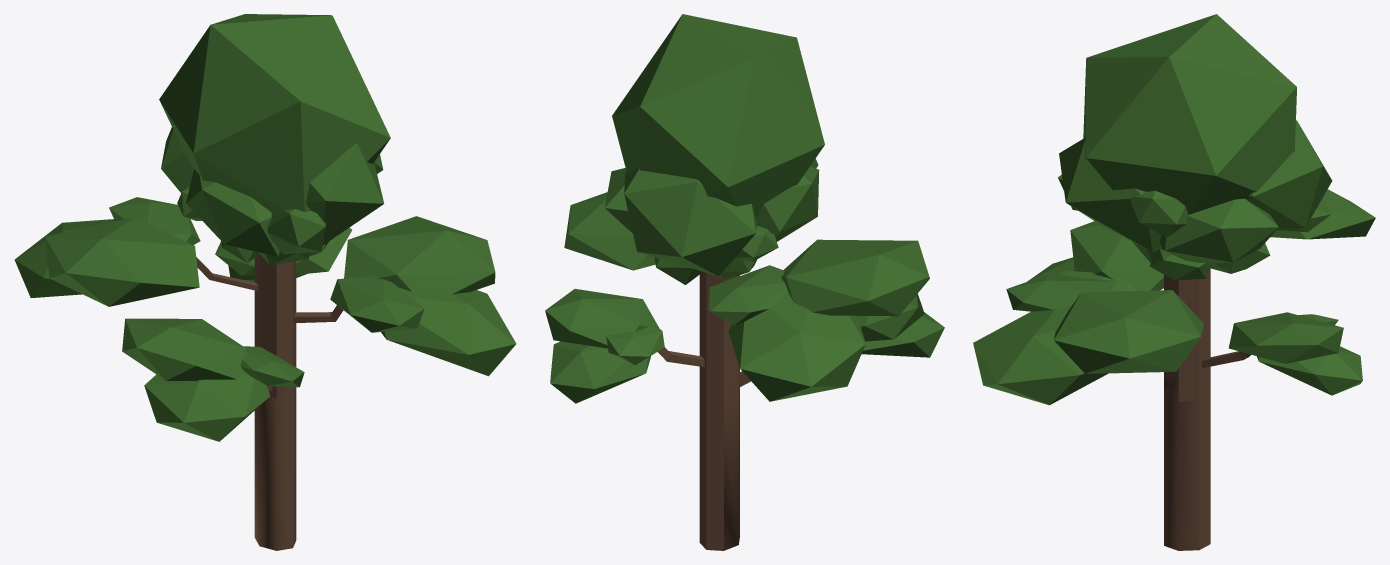
File: Tilleuil_02.fbx
3 renders of one model, left to right at view 1: azimuth 30°, elevation 25°; view 2: azimuth 150°, elevation 25°; view 3: azimuth 270°, elevation 25°, orthographic. The views are drawn at different scales.
Parts seen in each view (by area): view 1: Tilleuil_02; view 2: Tilleuil_02; view 3: Tilleuil_02.
Part boxes in pixels (x1,y1,x2,y2): Tilleuil_02: [14, 14, 516, 550]; Tilleuil_02: [545, 14, 944, 550]; Tilleuil_02: [973, 14, 1375, 550].
Bounding box in the file's own units: 386 × 487 × 350.
Materials: 1 (1 with a texture image).
